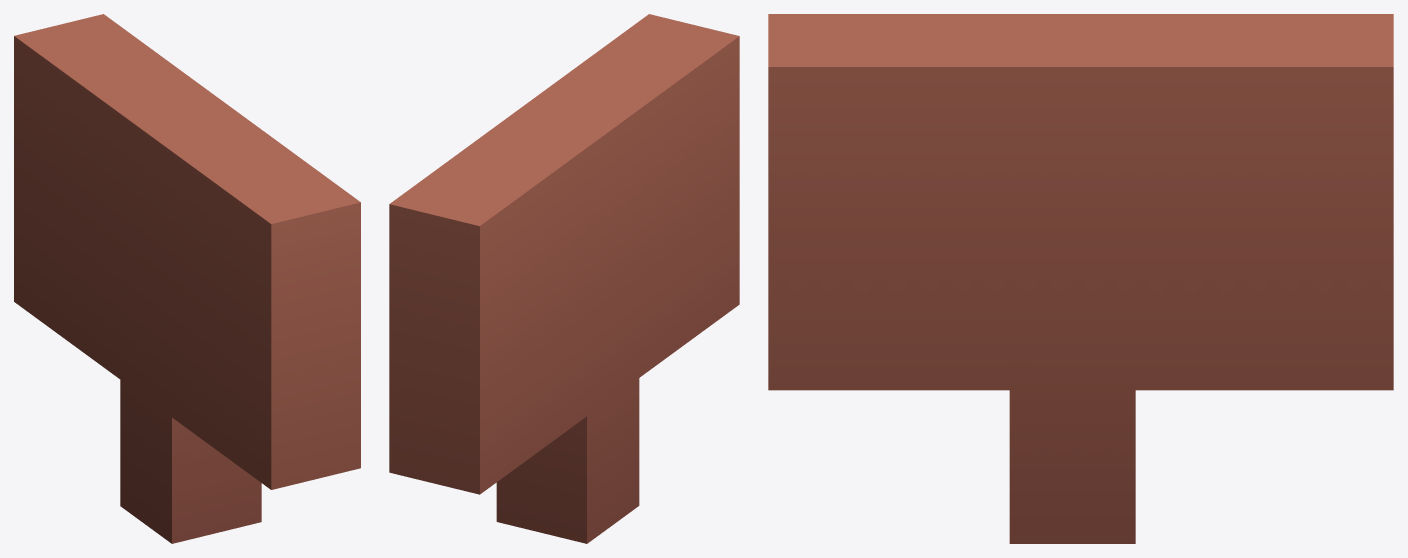
File: sign.fbx
3 views of the same model, side by side, from view 1: azimuth 30°, elevation 25°; view 2: azimuth 150°, elevation 25°; view 3: azimuth 270°, elevation 25° (orthographic). The views are drawn at different scales.
Visible parts, largest first — view 1: Sign; view 2: Sign; view 3: Sign.
Part boxes in pixels (x1,y1,x2,y2): Sign: (14, 14, 360, 543); Sign: (389, 14, 739, 543); Sign: (768, 14, 1393, 543).
Bounding box in the file's own units: 40.56 × 170 × 202.
